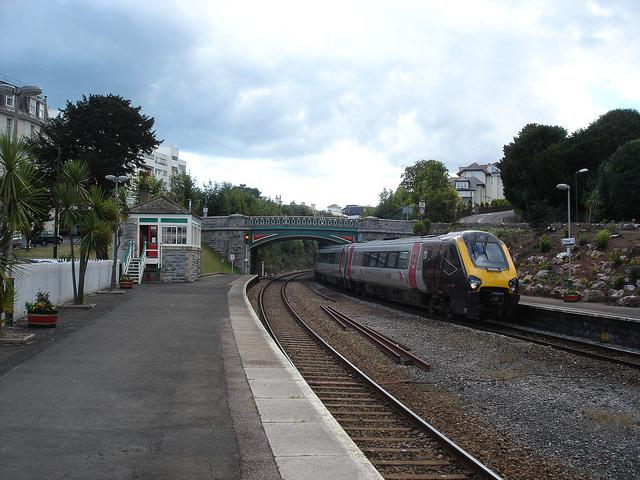Train: (315, 230, 522, 322)
